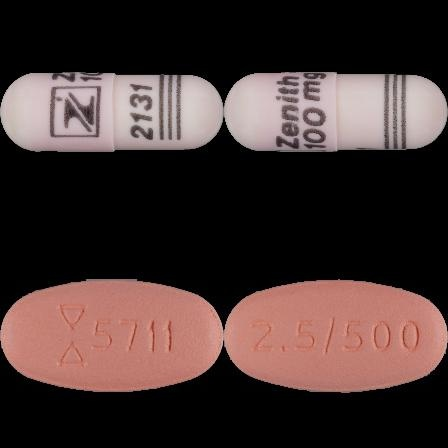42254-070: (0, 0, 224, 224)
